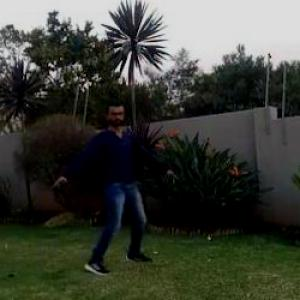land: (33, 69, 176, 298)
